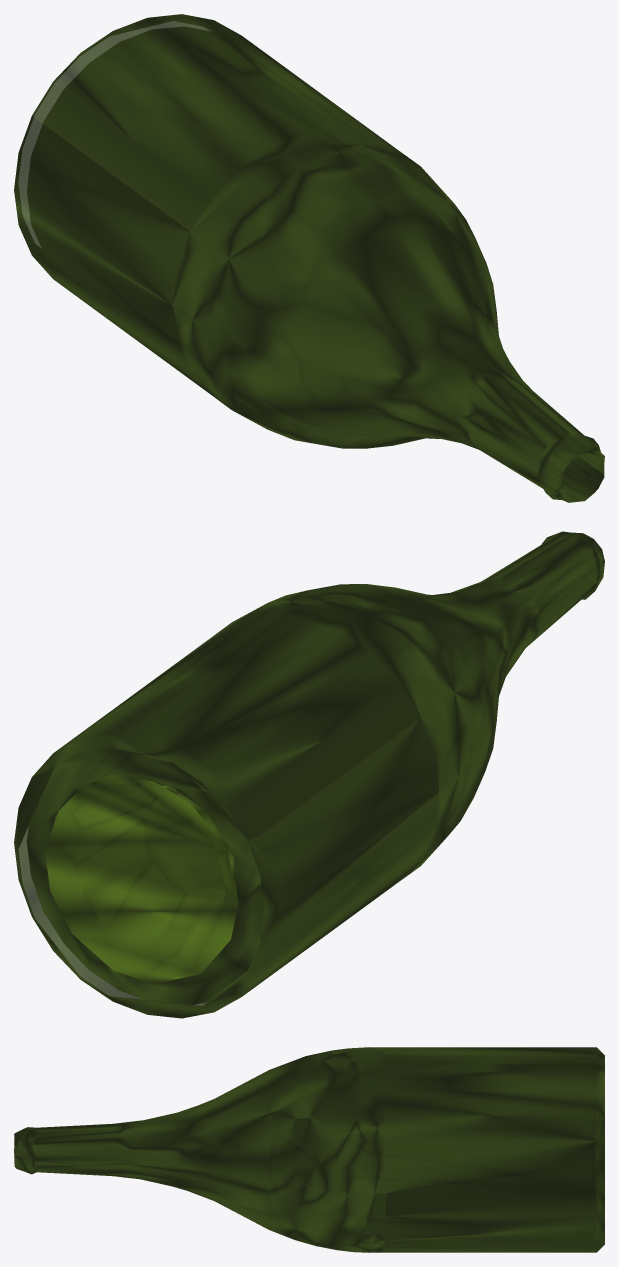
File: model_align.obj
3 views of the same model, one above another, from view 1: azimuth 30°, elevation 25°; view 2: azimuth 150°, elevation 25°; view 3: azimuth 270°, elevation 25° (orthographic). The views are drawn at different scales.
Size of the model in its own units: 0.0796 by 0.0796 by 0.2277.
